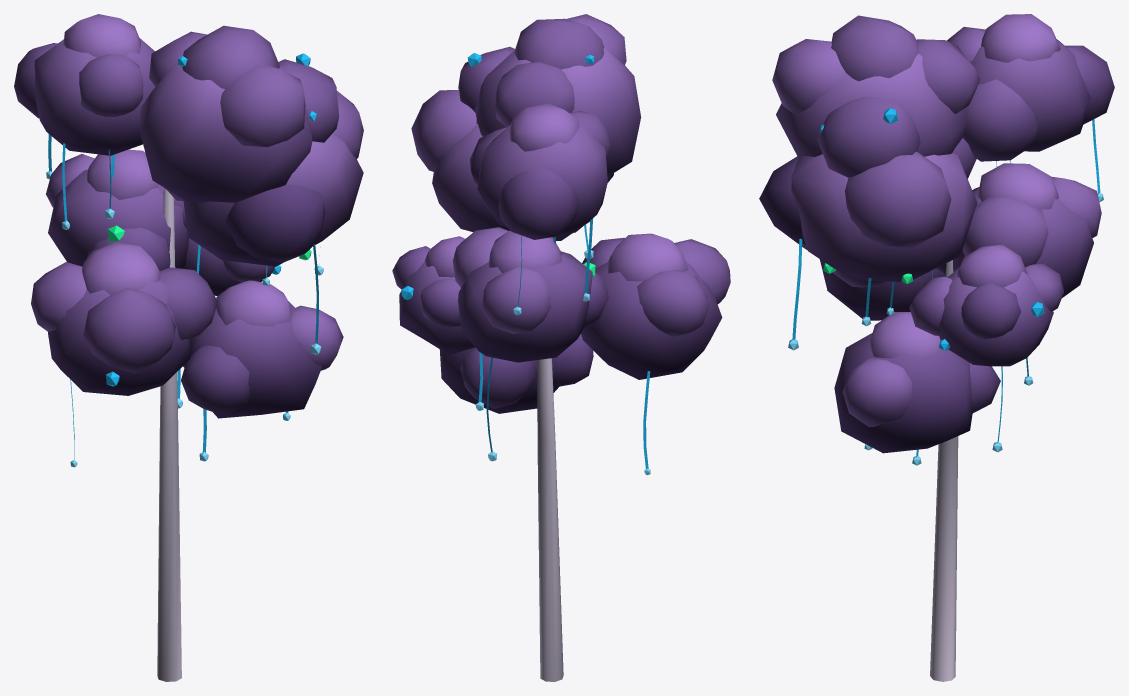
The model's file is SM_PandoraTree_Birch.fbx.
The picture shows the model from 3 angles, left to right: view 1: azimuth 30°, elevation 25°; view 2: azimuth 150°, elevation 25°; view 3: azimuth 270°, elevation 25°; orthographic projection. The views are drawn at different scales.
Parts seen in each view (by area): view 1: SM_PandoraTree_Birch; view 2: SM_PandoraTree_Birch; view 3: SM_PandoraTree_Birch.
Boxes of the visible parts, x1,y1,x2,y2 form: SM_PandoraTree_Birch: (14,14,363,681); SM_PandoraTree_Birch: (392,14,730,681); SM_PandoraTree_Birch: (759,14,1114,681).
Size of what is drawn, in the model's own units: 5.62 by 11.47 by 5.53.
